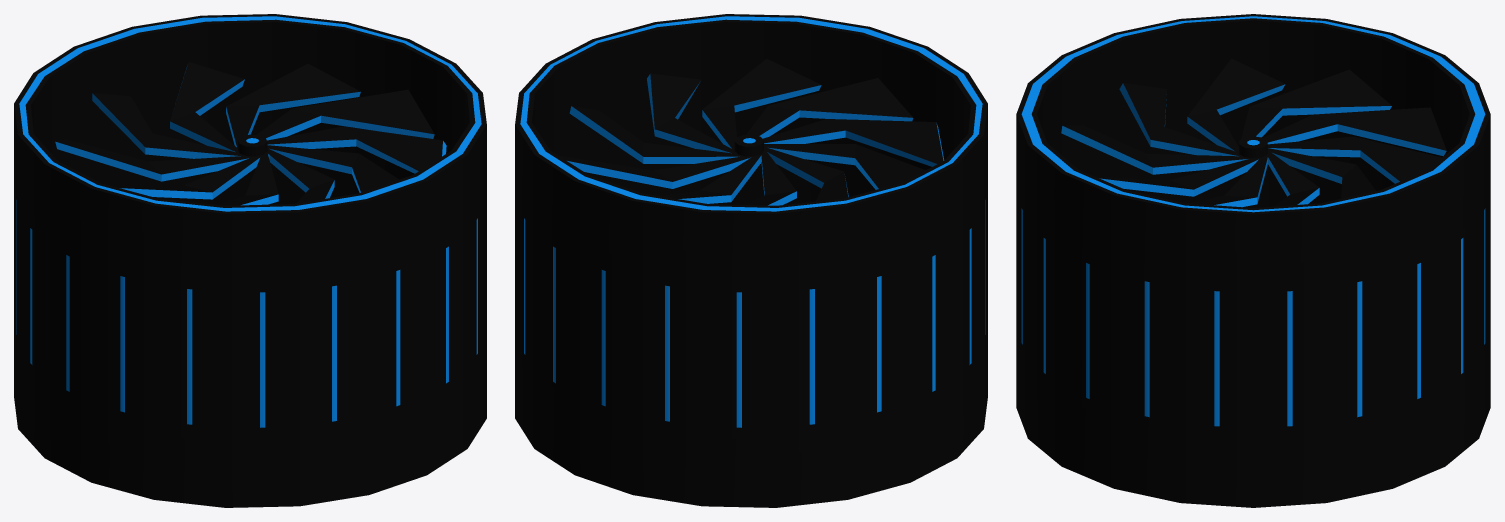
Rendered from Blower.FBX.
3 renders of one model, left to right at view 1: azimuth 30°, elevation 25°; view 2: azimuth 150°, elevation 25°; view 3: azimuth 270°, elevation 25°, orthographic.
Visible parts, largest first — view 1: BlowerFrame, Fan; view 2: BlowerFrame, Fan; view 3: BlowerFrame, Fan.
Boxes of the visible parts, x1,y1,x2,y2 form: BlowerFrame: (14, 14, 486, 507); Fan: (55, 62, 446, 205); BlowerFrame: (515, 14, 987, 507); Fan: (558, 59, 944, 205); BlowerFrame: (1016, 14, 1490, 507); Fan: (1061, 58, 1446, 207).
Bounding box in the file's own units: 305 × 208 × 305.
